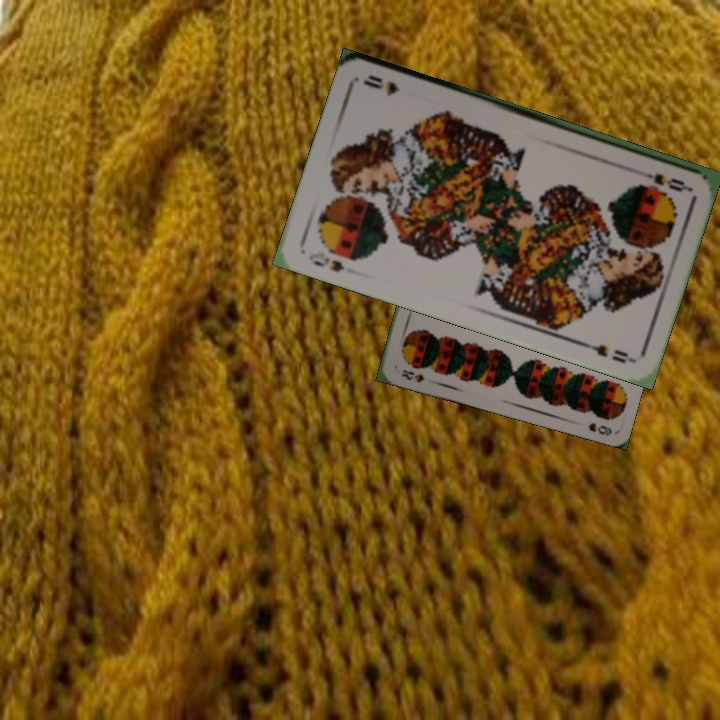S8: (397, 366, 427, 385)
SO: (633, 166, 691, 195), (304, 247, 348, 275)
